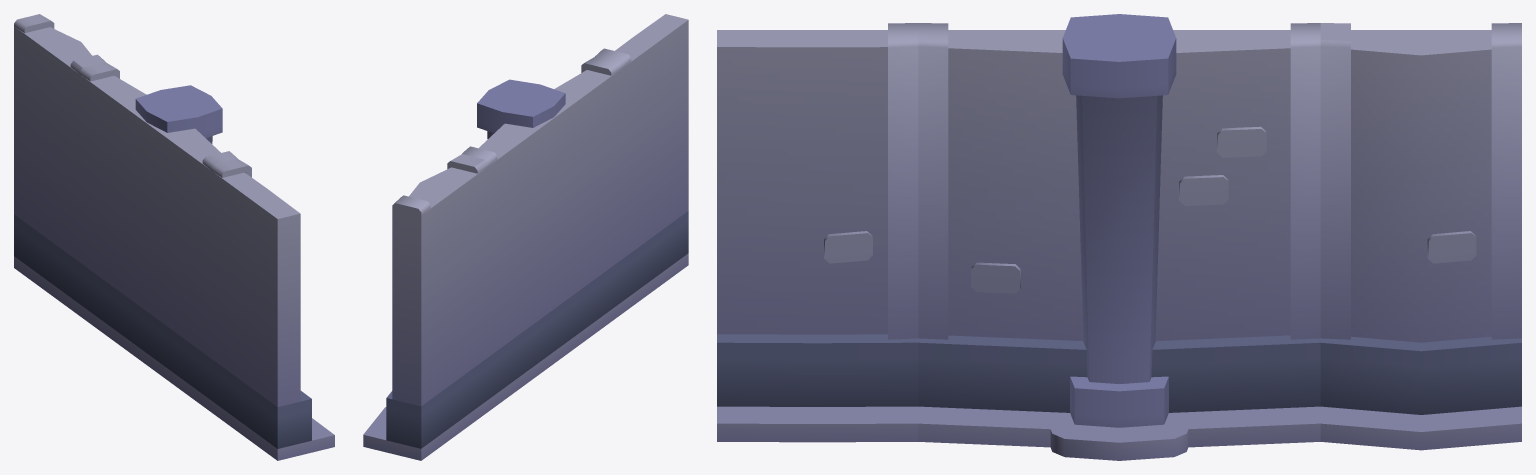
Rendered from corridor-wide-flatright.fbx.
3 renders of one model, left to right at view 1: azimuth 30°, elevation 25°; view 2: azimuth 150°, elevation 25°; view 3: azimuth 270°, elevation 25°, orthographic. The views are drawn at different scales.
Visible parts, largest first — view 1: corridor-wide.034; view 2: corridor-wide.034; view 3: corridor-wide.034.
Boxes of the visible parts, <box> form: corridor-wide.034: <box>14,14,334,460</box>; corridor-wide.034: <box>363,14,688,460</box>; corridor-wide.034: <box>717,14,1521,460</box>.
Bounding box in the file's own units: 58.08 × 169 × 320.
